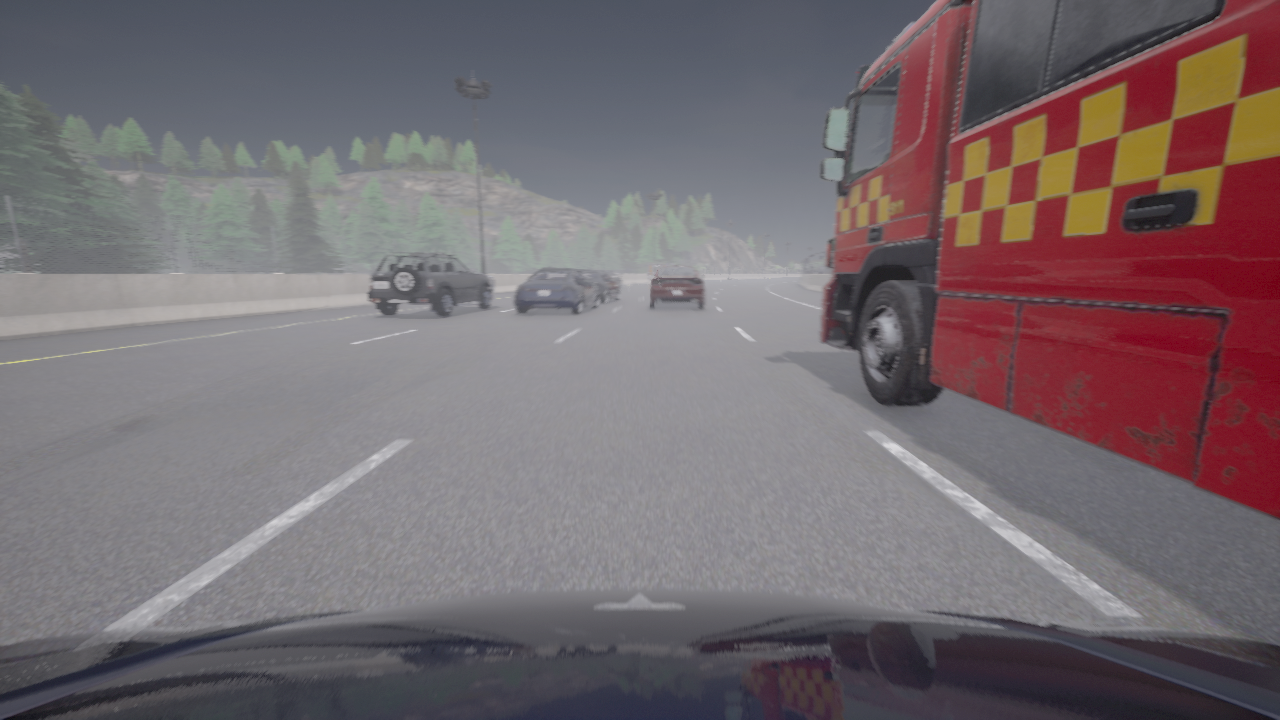cyclist: (820, 0, 1279, 519), (0, 588, 1279, 719), (367, 251, 494, 316), (514, 268, 599, 314), (649, 265, 704, 308), (578, 269, 620, 303), (647, 262, 675, 280), (602, 269, 623, 288)
